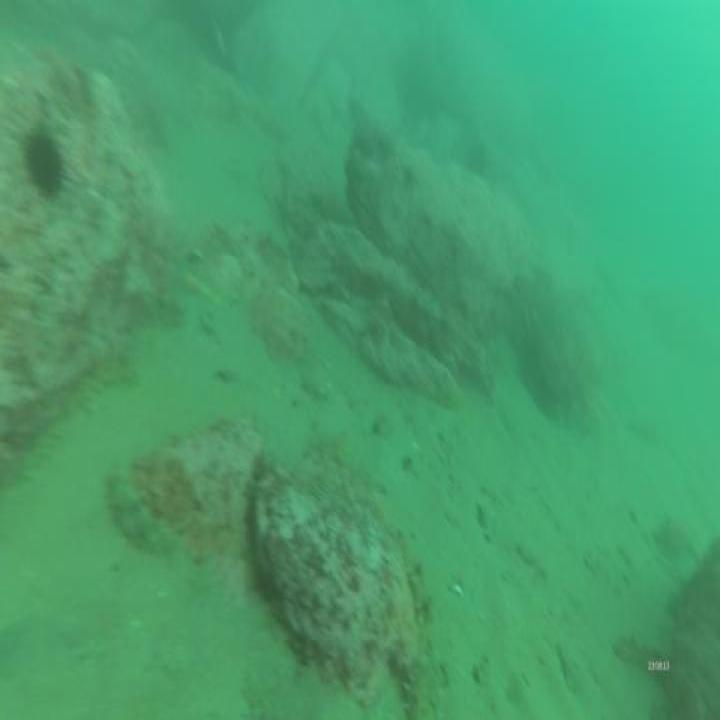echinus: (21, 123, 64, 208)
holothurian: (406, 554, 434, 720)
